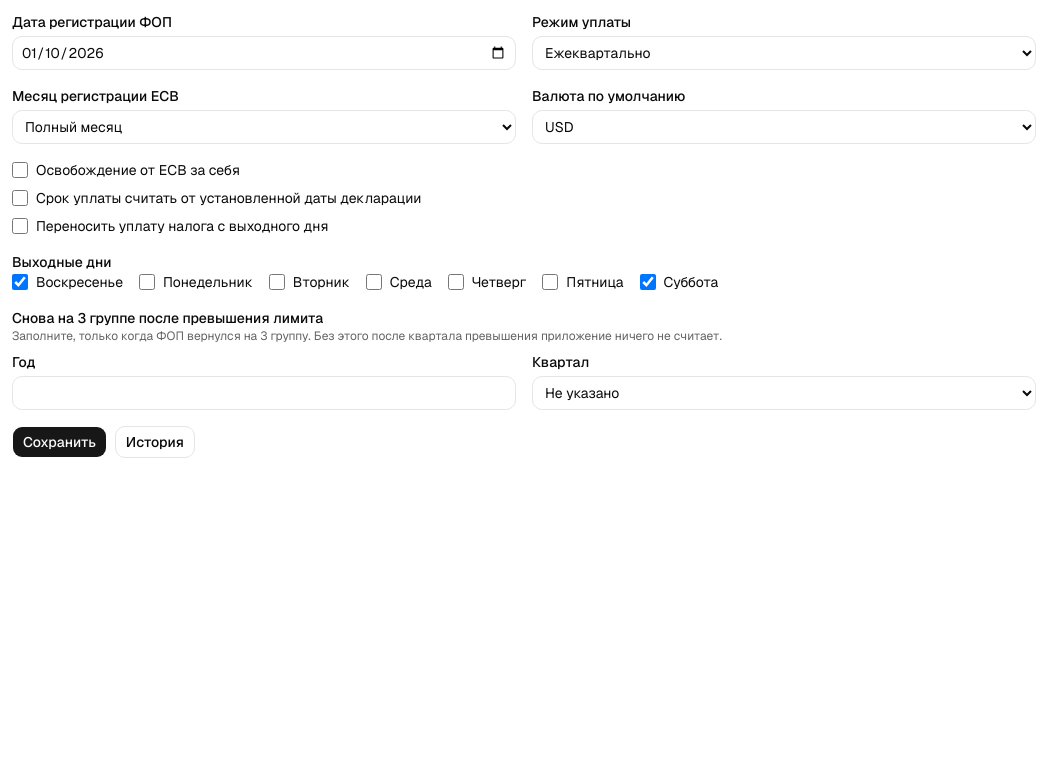
FopSettingsForm rejection › reads the same rejection in Russian
What coordinates should you click on to do the following:
click the button "Сохранить"
I would click on:
 (59, 442)
Its box is [12,426,107,458].
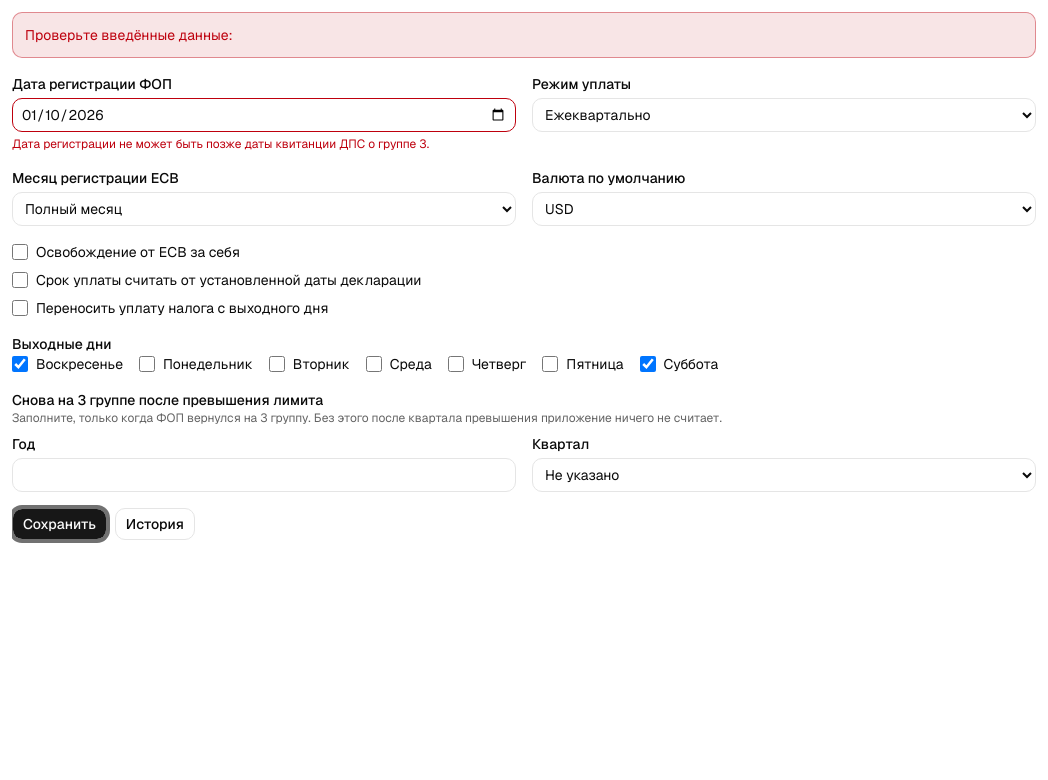
Expected: the text "Дата регистрации не может быть позже даты квитанции ДПС о группе 3." is shown, [12,136,429,152]
